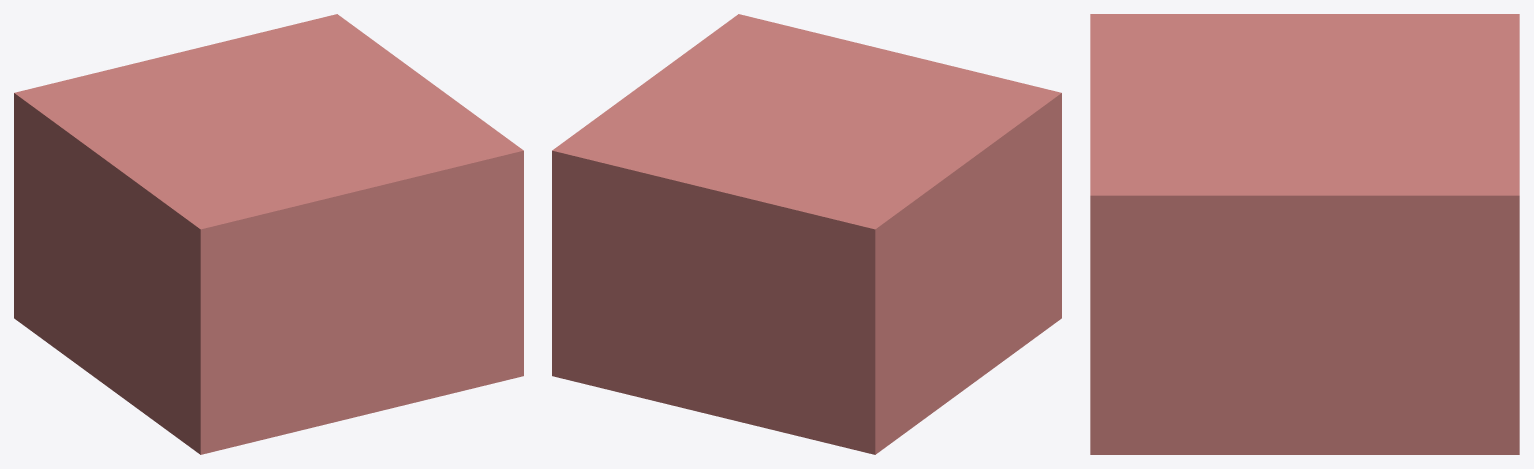
The model's file is piglet__leg_br.glb.
3 renders of one model, left to right at view 1: azimuth 30°, elevation 25°; view 2: azimuth 150°, elevation 25°; view 3: azimuth 270°, elevation 25°, orthographic. The views are drawn at different scales.
Parts seen in each view (by area): view 1: piglet__leg_br; view 2: piglet__leg_br; view 3: piglet__leg_br.
Part boxes in pixels (x1,y1,x2,y2): piglet__leg_br: [14, 14, 523, 454]; piglet__leg_br: [552, 14, 1061, 454]; piglet__leg_br: [1090, 14, 1519, 454].
Size of the model in its own units: 0.3 by 0.2 by 0.3.
Materials: 1 (1 with a texture image).
